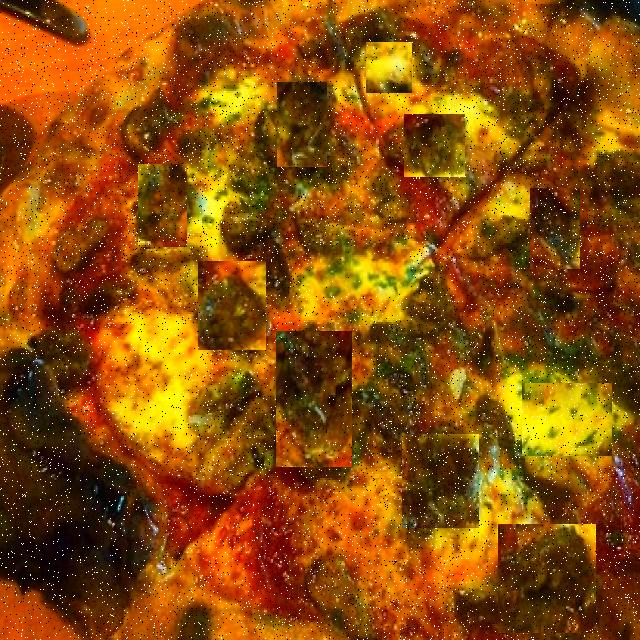Cheese: (112, 320, 200, 422), (522, 383, 612, 456), (312, 246, 410, 296), (366, 42, 412, 93)
Pizza: (0, 0, 640, 640)
Sausage: (498, 524, 596, 633), (276, 331, 352, 467), (402, 434, 479, 528), (198, 261, 266, 350), (277, 82, 327, 167), (138, 164, 187, 247), (530, 188, 580, 269), (404, 114, 465, 177)
